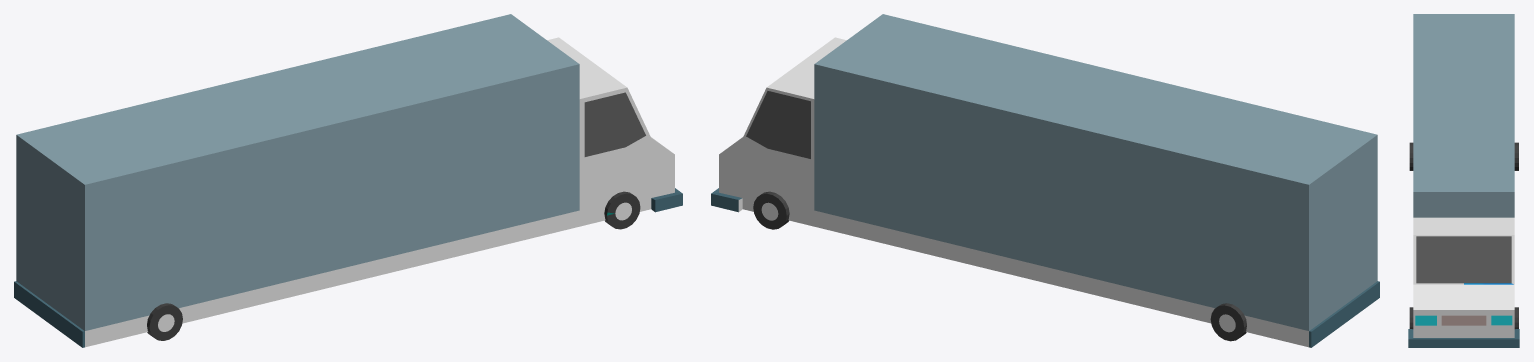
The model's file is Kamionce4x1Gray.fbx.
3 views of the same model, side by side, from view 1: azimuth 30°, elevation 25°; view 2: azimuth 150°, elevation 25°; view 3: azimuth 270°, elevation 25° (orthographic). The views are drawn at different scales.
Visible parts, largest first — view 1: Car_08_4; view 2: Car_08_4; view 3: Car_08_4.
Boxes of the visible parts, <box> form: Car_08_4: <box>14,14,682,347</box>; Car_08_4: <box>711,14,1379,347</box>; Car_08_4: <box>1408,14,1519,347</box>.
Bounding box in the file's own units: 3.99 × 1.1 × 0.8755.
1 material, 1 textured.
